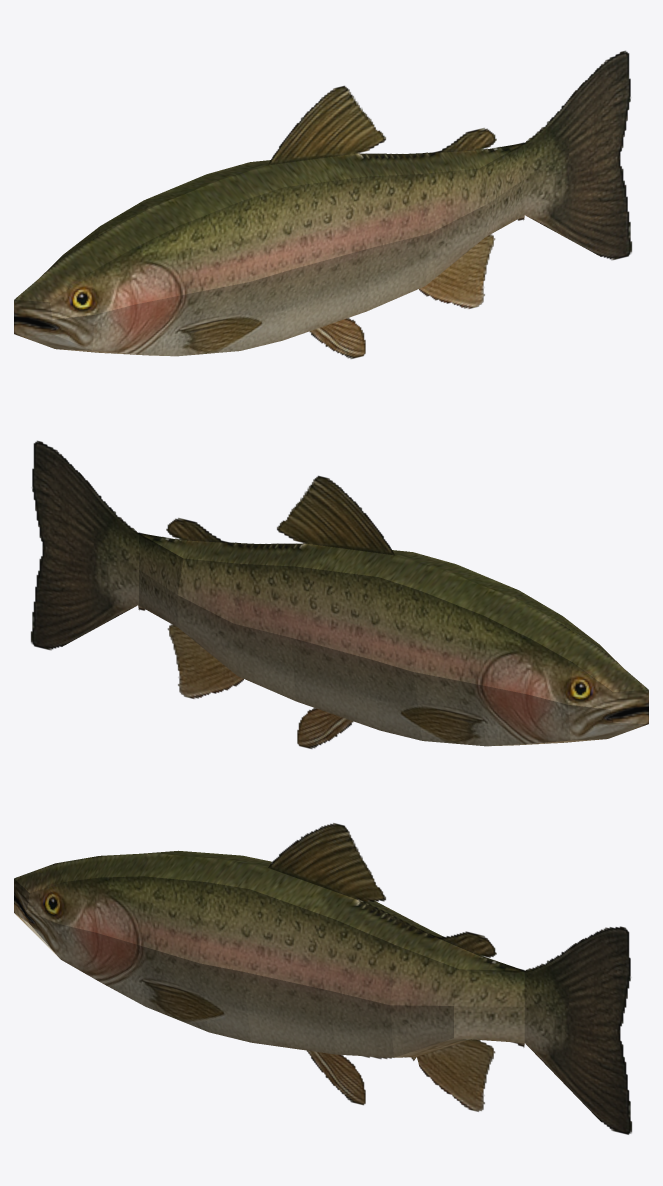
Rendered from Rainbow_Trout.glb.
The picture shows the model from 3 angles, top to bottom: view 1: azimuth 30°, elevation 25°; view 2: azimuth 150°, elevation 25°; view 3: azimuth 330°, elevation 25°; orthographic projection.
Visible parts, largest first — view 1: Rainbow_Trout; view 2: Rainbow_Trout; view 3: Rainbow_Trout.
Boxes of the visible parts, x1,y1,x2,y2 form: Rainbow_Trout: (14, 50, 631, 358); Rainbow_Trout: (31, 440, 648, 748); Rainbow_Trout: (14, 823, 631, 1134).
Size of the model in its own units: 1.18 by 0.5694 by 0.1622.
1 material, 1 textured.
